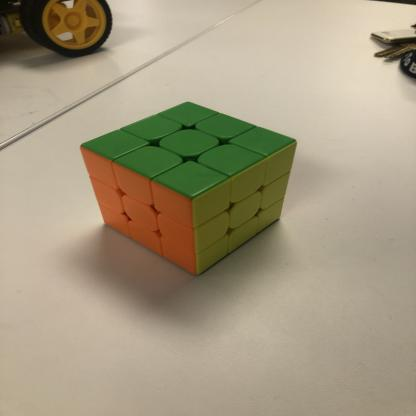SolvedCube: (70, 99, 298, 283)
